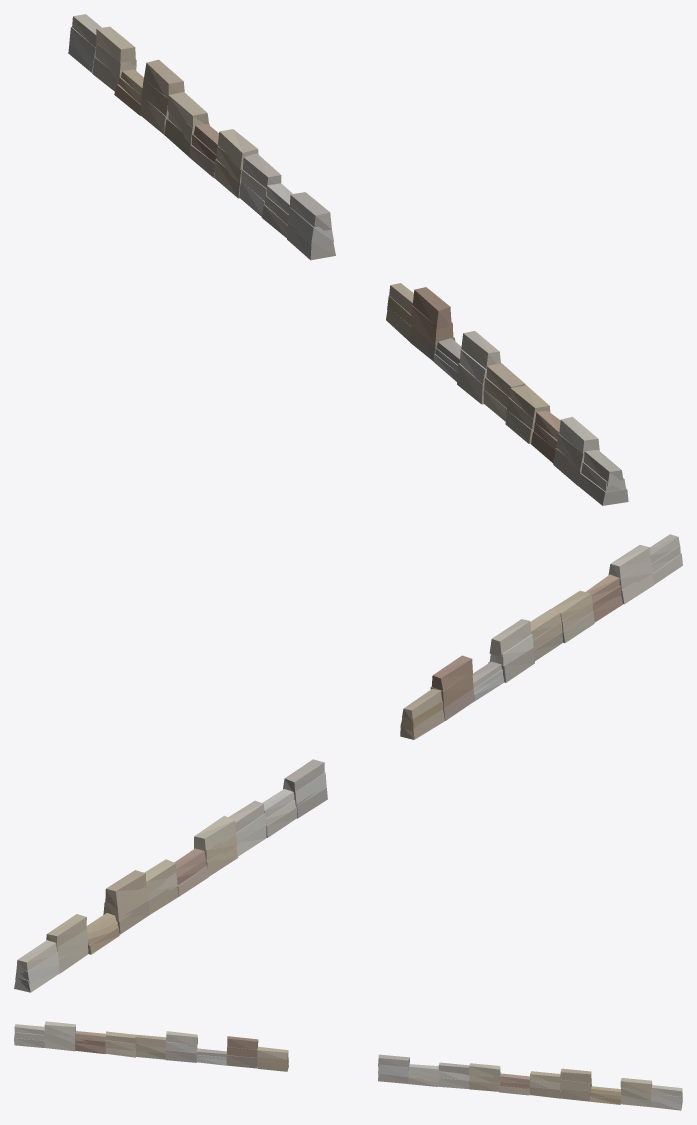
The model's file is farm_-31_-33_mid.glb.
The picture shows the model from 3 angles, top to bottom: view 1: azimuth 30°, elevation 25°; view 2: azimuth 150°, elevation 25°; view 3: azimuth 270°, elevation 25°; orthographic projection. The views are drawn at different scales.
Visible parts, largest first — view 1: geometry_0; view 2: geometry_0; view 3: geometry_0.
Part boxes in pixels (x1=…): geometry_0: x1=68, y1=14, x2=628, y2=505; geometry_0: x1=14, y1=534, x2=682, y2=992; geometry_0: x1=14, y1=1021, x2=682, y2=1110.
Bounding box in the file's own units: 4.47 × 3.05 × 33.76.
